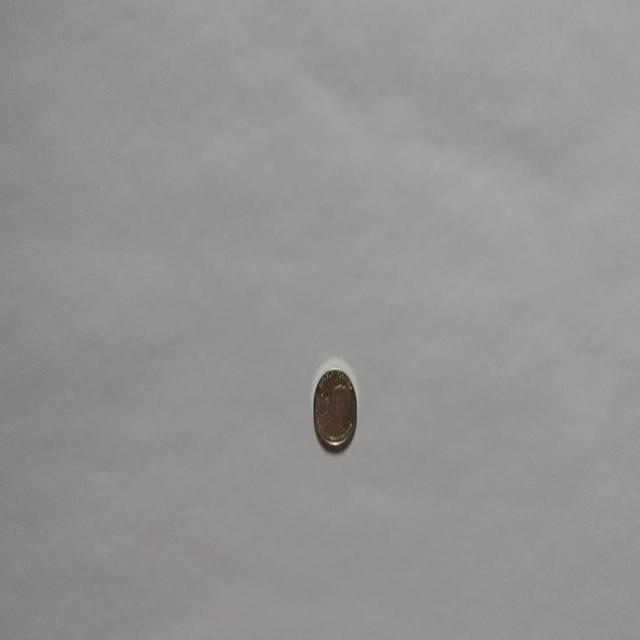seratus rupiah: (312, 366, 358, 452)
